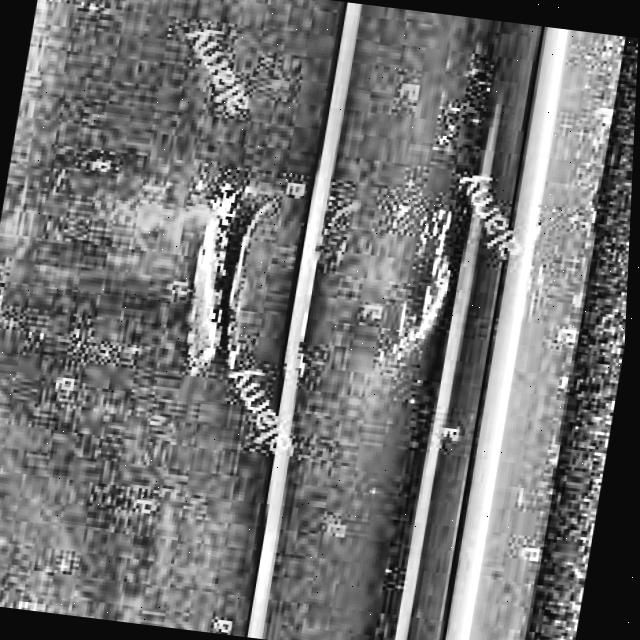bumper_scratch: (179, 168, 474, 408)
door_dent: (0, 155, 471, 398)
